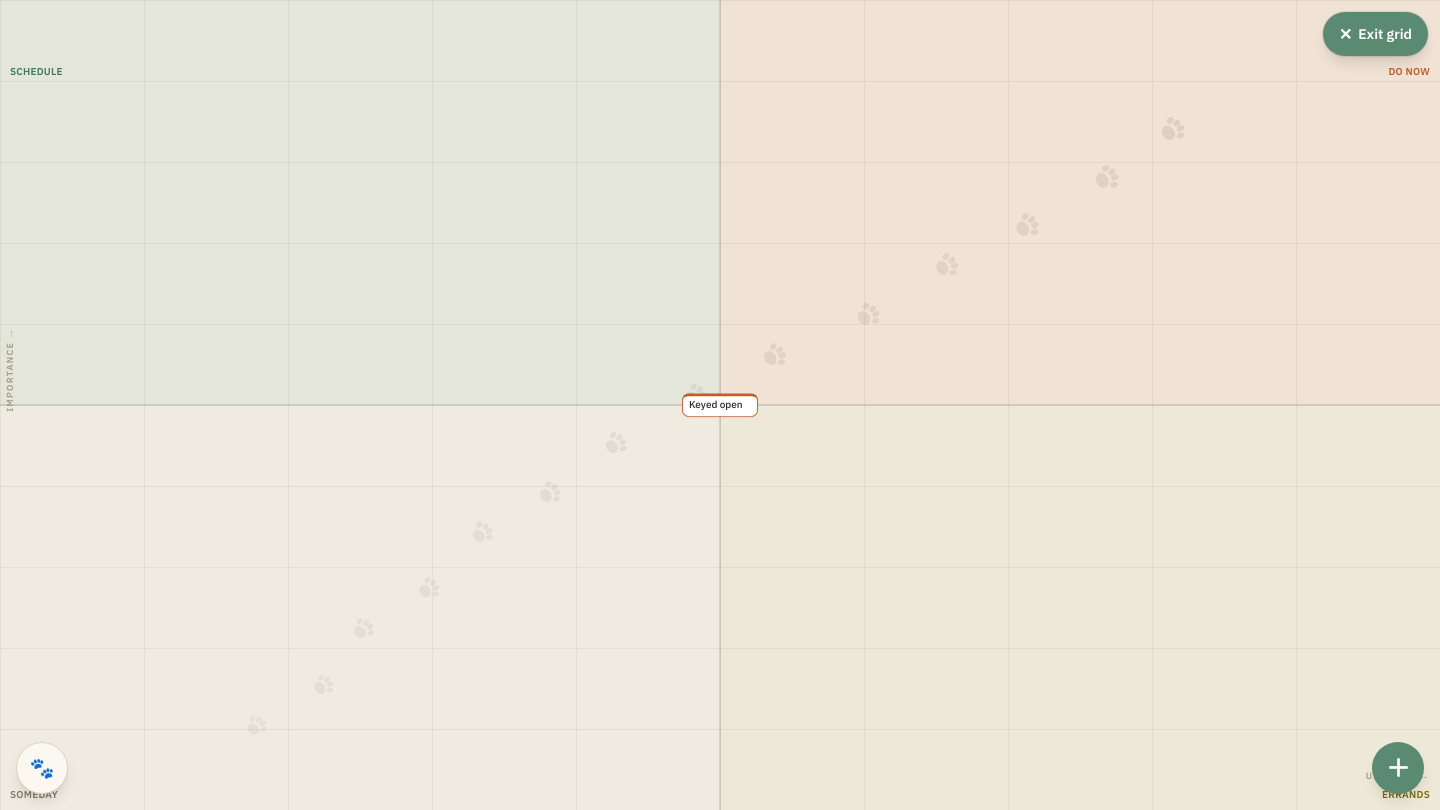
Test case: TouchGridSurface hold-drag › keyboard activation (click with detail 0) opens the sheet on a draggable chip
Click the button "Keyed open" at (720, 405), box [682,393,758,417]
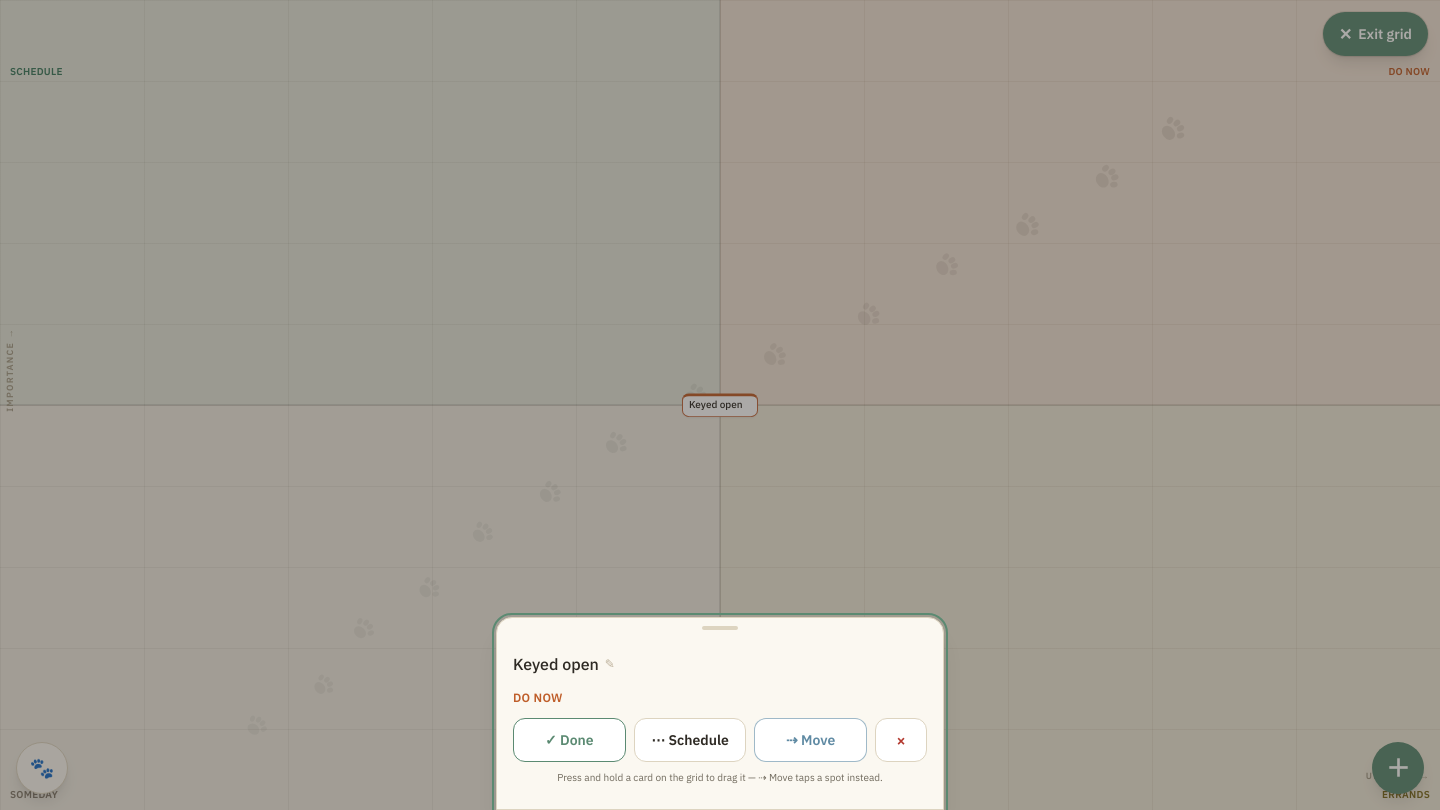
Expected: the dialog named "Task: Keyed open" is shown, [496,617,944,809]
